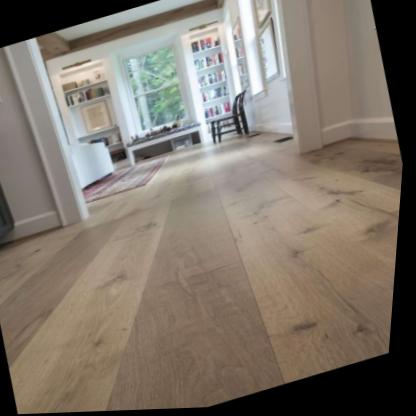Wooden floor: (0, 133, 405, 415)
